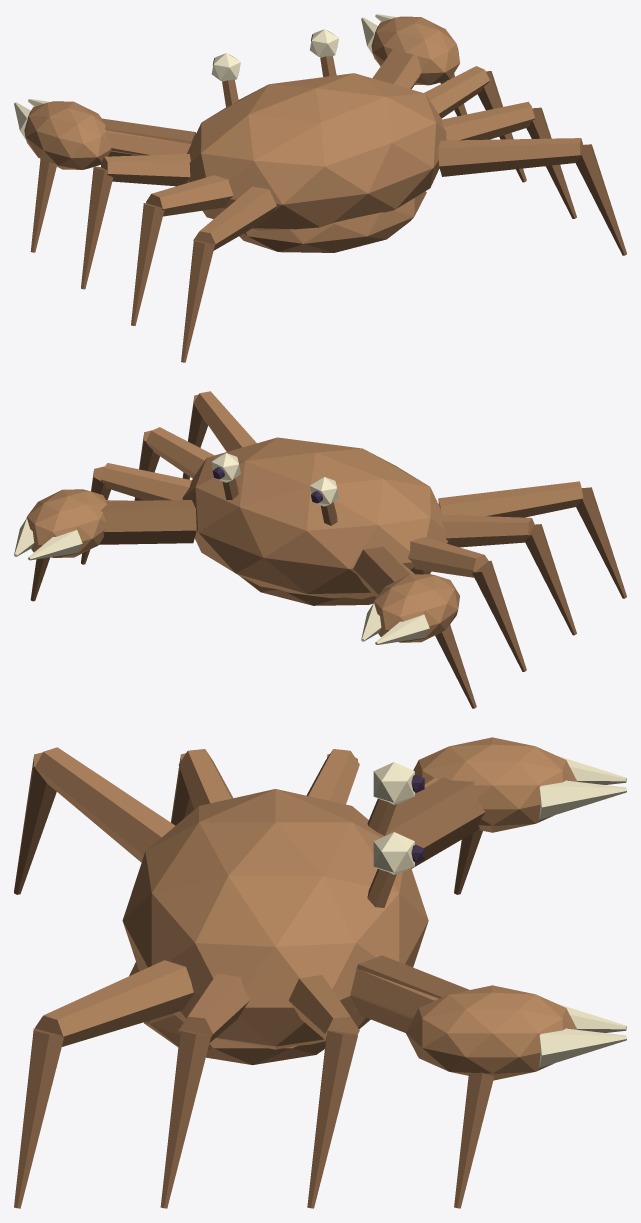
The model's file is BrownCrab.fbx.
The picture shows the model from 3 angles, top to bottom: view 1: azimuth 30°, elevation 25°; view 2: azimuth 150°, elevation 25°; view 3: azimuth 270°, elevation 25°; orthographic projection. The views are drawn at different scales.
Parts seen in each view (by area): view 1: Carapace, Claw1, LegUpper-1_3, Abdomen, Claw-1, LegUpper1_3, LegUpper1_1, LegUpper-1_2, LegUpper1_2, LegTip1_3, LegTip1_2, LegUpper-1_1 (+11 smaller); view 2: Carapace, Arm-1, Claw1, Claw-1, LegUpper1_3, LegUpper1_2, LegUpper-1_1, LegUpper1_1, LegUpper-1_3, LegUpper-1_2, Arm1, LegTip1_1 (+13 smaller); view 3: Carapace, Claw-1, Claw1, LegUpper-1_3, LegUpper1_3, Arm1, LegTip-1_3, LegTip-1_2, LegTip-1_1, Arm-1, Abdomen, LegUpper-1_2 (+16 smaller).
Part boxes in pixels (<box>): Carapace: <box>187,73,446,230</box>; Claw1: <box>24,101,111,169</box>; LegUpper-1_3: <box>438,138,583,176</box>; Abdomen: <box>239,191,426,252</box>; Claw-1: <box>371,16,459,85</box>; LegUpper1_3: <box>193,186,276,250</box>; LegUpper1_1: <box>101,154,190,186</box>; LegUpper-1_2: <box>441,101,534,140</box>; LegUpper1_2: <box>146,175,233,216</box>; LegTip1_3: <box>181,240,214,362</box>; LegTip1_2: <box>131,203,164,325</box>; LegUpper-1_1: <box>424,66,489,118</box>; Carapace: <box>182,437,448,599</box>; Arm-1: <box>99,500,196,544</box>; Claw1: <box>373,574,459,642</box>; Claw-1: <box>26,489,106,557</box>; LegUpper1_3: <box>438,481,583,517</box>; LegUpper1_2: <box>441,515,534,547</box>; LegUpper-1_1: <box>101,463,191,500</box>; LegUpper1_1: <box>408,537,488,577</box>; LegUpper-1_3: <box>193,391,256,451</box>; LegUpper-1_2: <box>146,427,214,478</box>; Arm1: <box>353,546,409,597</box>; LegTip1_1: <box>472,560,526,671</box>; Carapace: <box>122,789,428,1049</box>; Claw-1: <box>406,985,577,1080</box>; Claw1: <box>413,737,577,832</box>; LegUpper-1_3: <box>35,960,193,1046</box>; LegUpper1_3: <box>35,747,175,862</box>; Arm1: <box>386,777,485,868</box>; LegTip-1_3: <box>14,1028,64,1208</box>; LegTip-1_2: <box>160,1029,211,1208</box>; LegTip-1_1: <box>307,1030,357,1208</box>; Arm-1: <box>350,955,469,1032</box>; Abdomen: <box>129,962,325,1065</box>; LegUpper-1_2: <box>178,973,249,1042</box>.
Bounding box in the file's own units: 0.5907 × 0.2199 × 0.4805.
